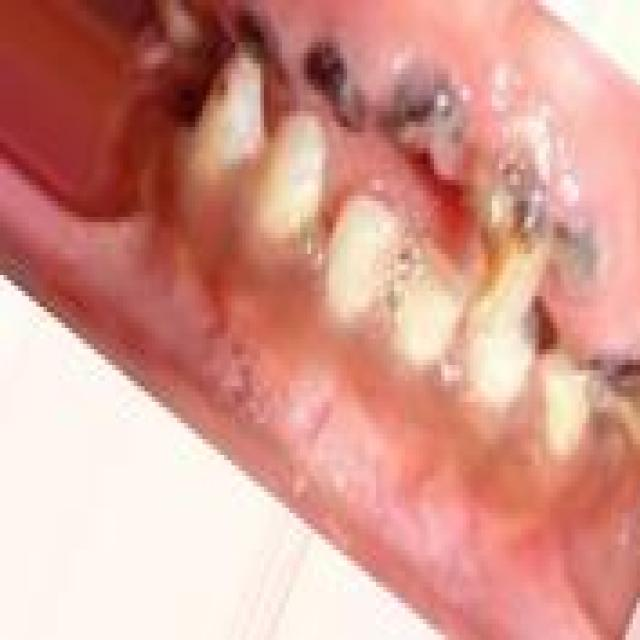caries: (472, 126, 550, 328), (394, 58, 466, 195), (296, 34, 372, 146), (228, 0, 279, 94), (558, 212, 604, 305)
